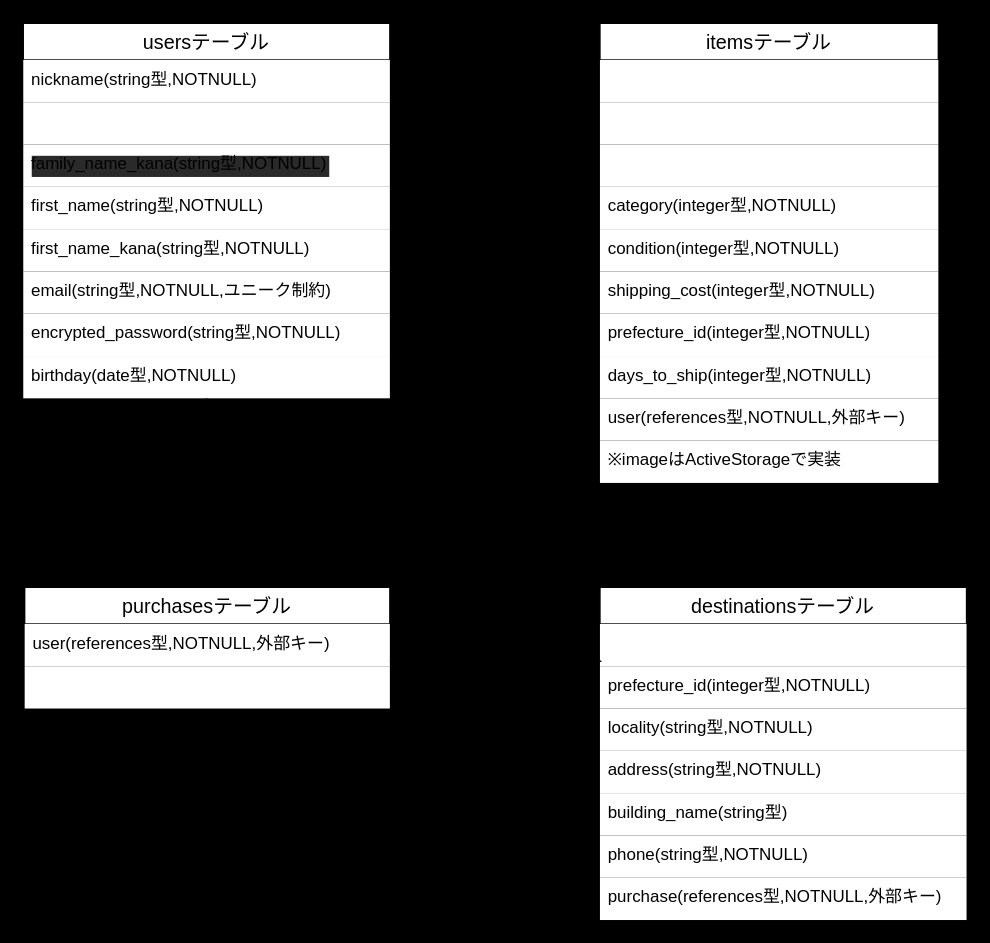
Image size: 990x943. Some labels were removed from this diagram. The centre of each missing label's shape, as x and y in pixels:
"family_name(string型,NOTNULL)" goes at (206,123).
"item(references型,NOTNULL,外部キー)" goes at (206,687).
"item_name(string型,NOTNULL)" goes at (768,80).
"postal_code(string型,NOTNULL)" goes at (782,644).
"price(integer型,NOTNULL)" goes at (768,165).
"text(text型,NOTNULL)" goes at (768,123).
